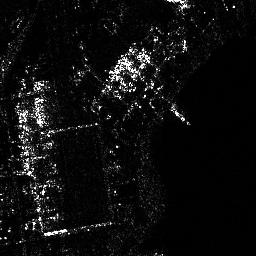ship: (168, 102, 193, 127)
